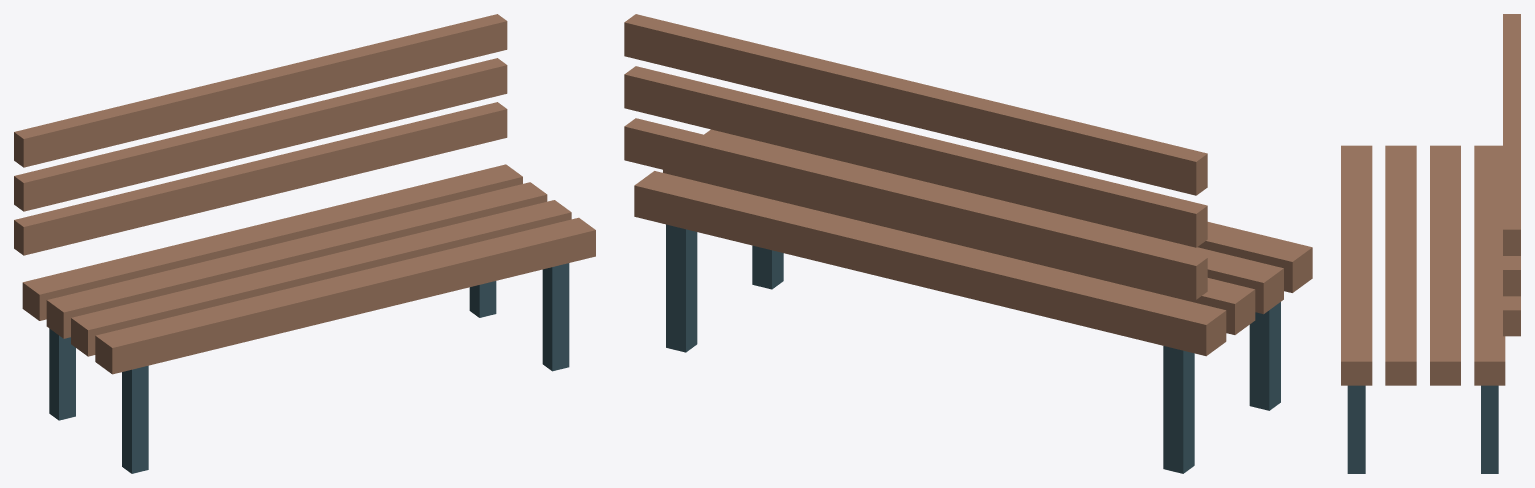
File: bench.obj
The picture shows the model from 3 angles, left to right: view 1: azimuth 30°, elevation 25°; view 2: azimuth 150°, elevation 25°; view 3: azimuth 270°, elevation 25°; orthographic projection. The views are drawn at different scales.
Visible parts, largest first — view 1: bench; view 2: bench; view 3: bench.
Boxes of the visible parts, x1,y1,x2,y2 form: bench: (14, 14, 595, 473); bench: (624, 14, 1312, 473); bench: (1341, 14, 1520, 473).
Size of the model in its own units: 2.3 by 1.26 by 0.81.
